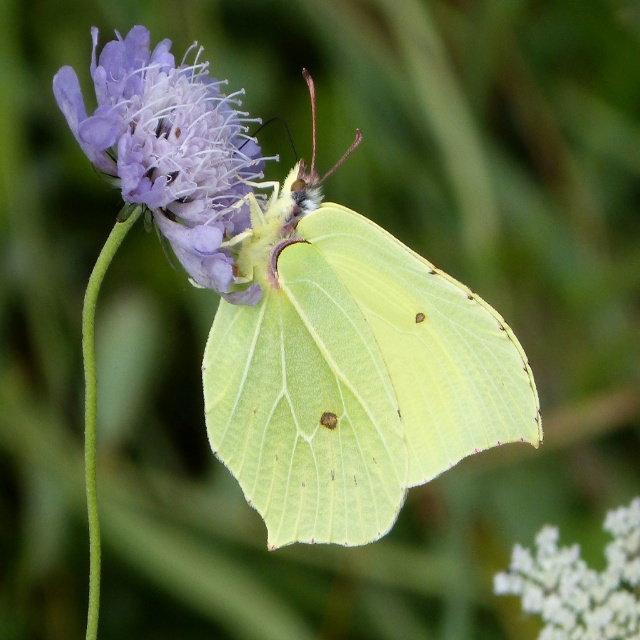Butterfly: (200, 65, 544, 551)
